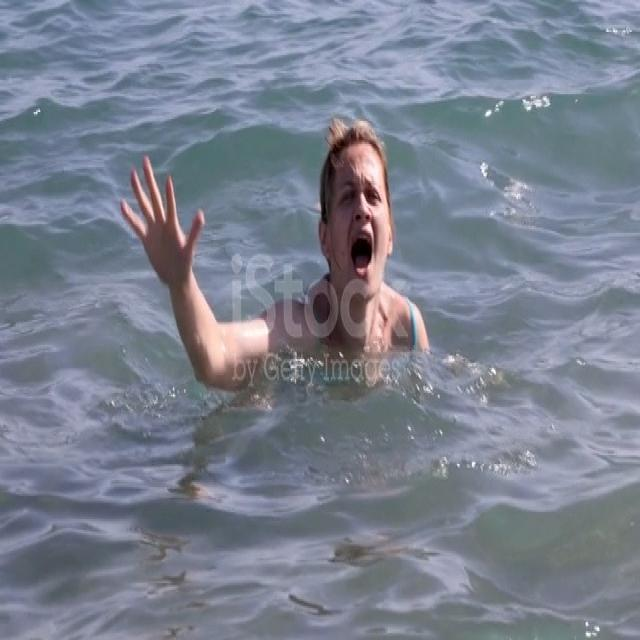Out of Water: (136, 132, 424, 360)
